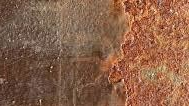Corrosion: (108, 1, 189, 106)
